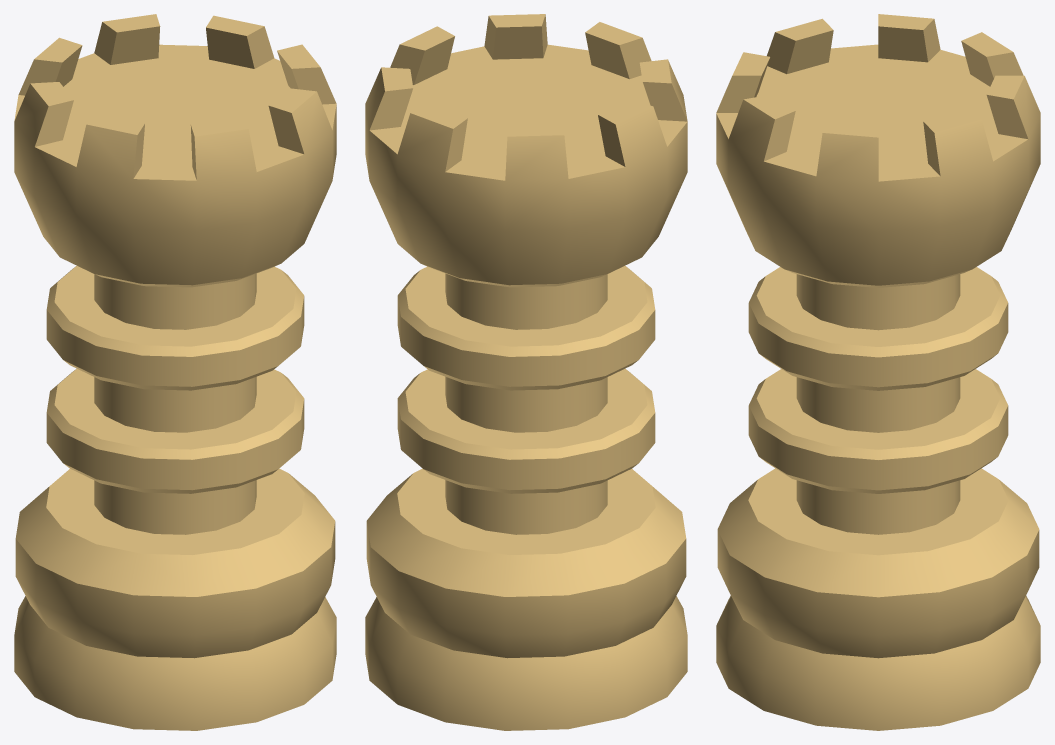
The model's file is Rook.fbx.
3 renders of one model, left to right at view 1: azimuth 30°, elevation 25°; view 2: azimuth 150°, elevation 25°; view 3: azimuth 270°, elevation 25°, orthographic.
Visible parts, largest first — view 1: Rook_Black; view 2: Rook_Black; view 3: Rook_Black.
Part boxes in pixels (<box>): Rook_Black: <box>14,14,336,730</box>; Rook_Black: <box>365,14,687,730</box>; Rook_Black: <box>716,14,1040,730</box>.
Bounding box in the file's own units: 160 × 320 × 160.
